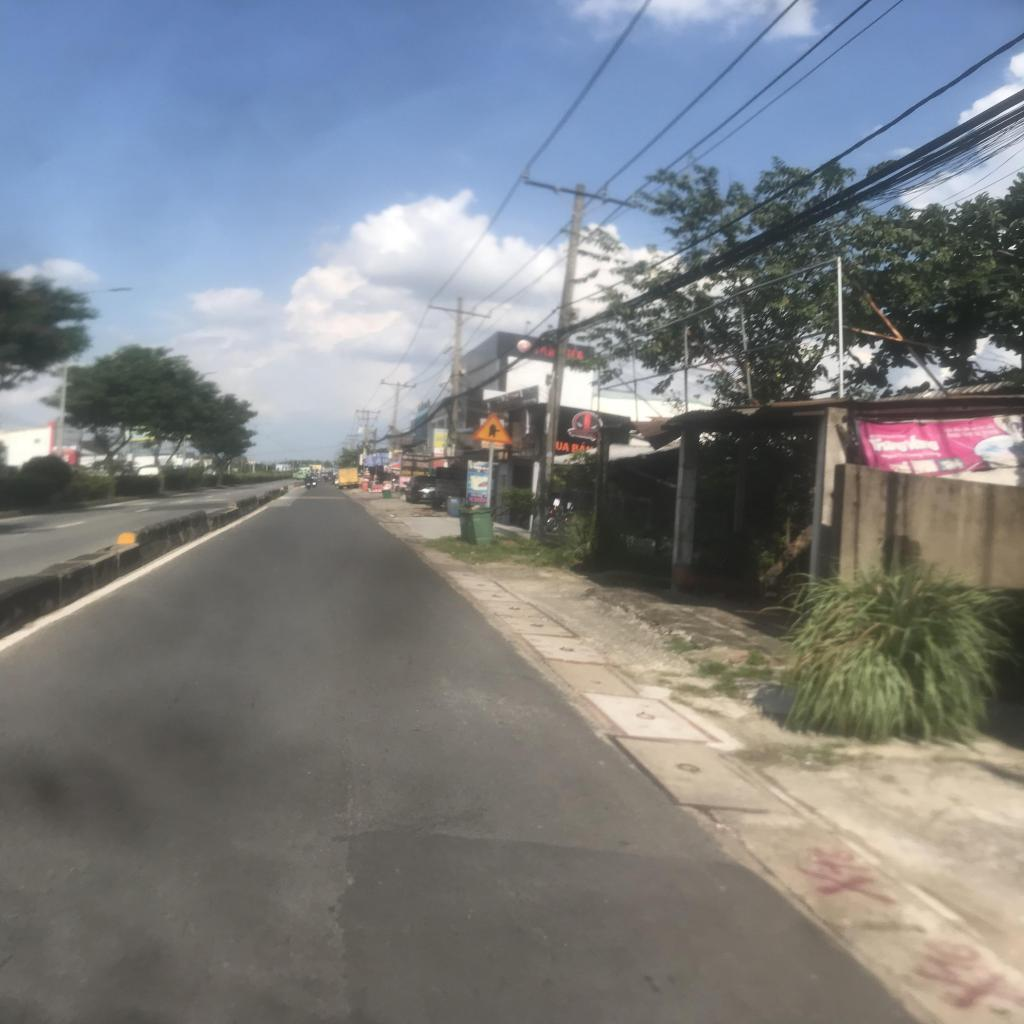giao_nhau_voi_duong_khong_uu_tien: (470, 412, 515, 446)
